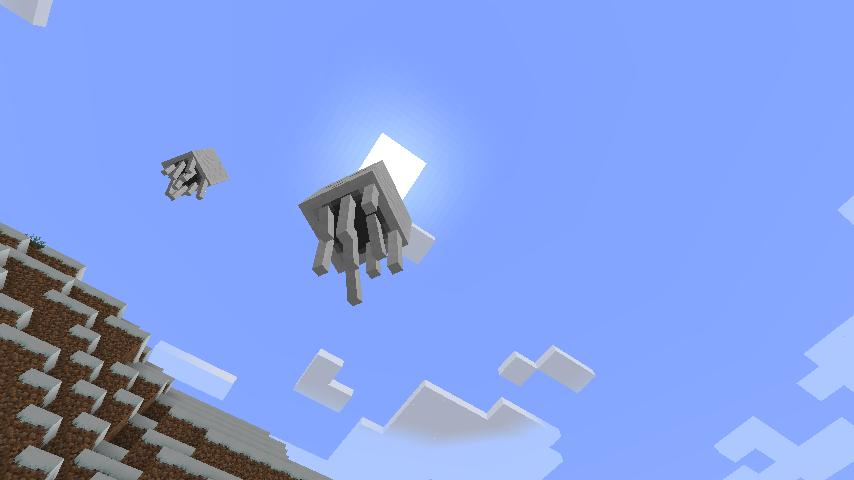ghast: (294, 156, 416, 307), (161, 145, 230, 204)
